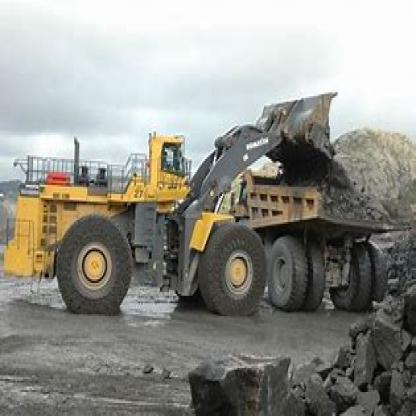bull_dozer/loader/grader: (4, 83, 339, 316)
